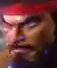ryu: (0, 0, 50, 63)
